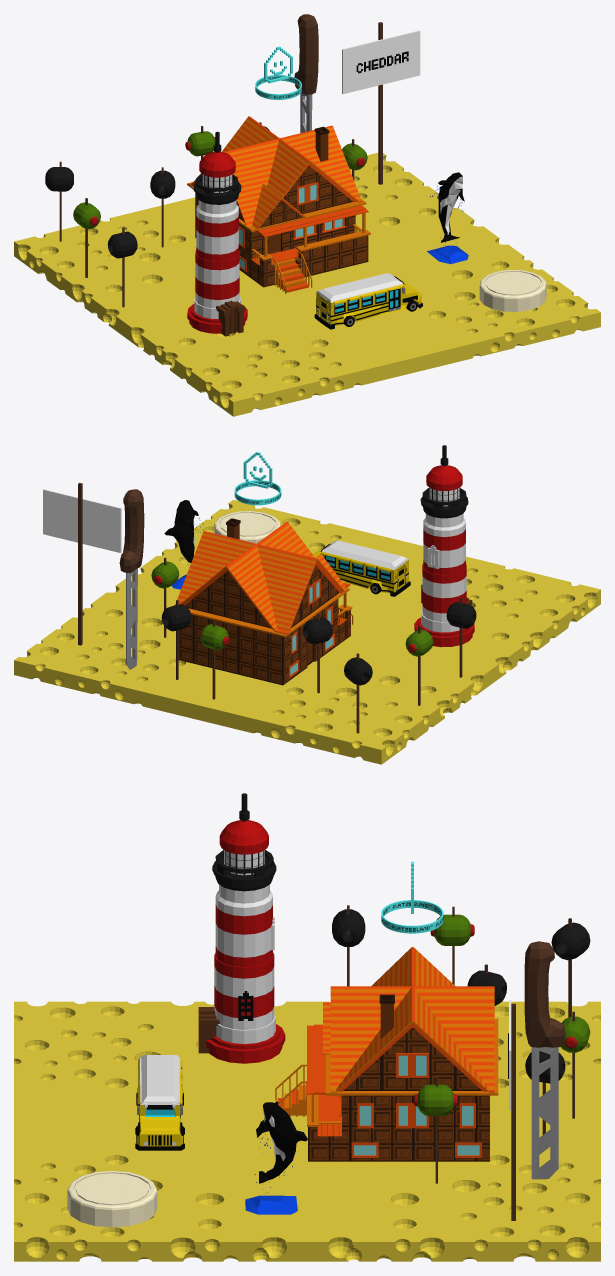
The picture shows the model from 3 angles, top to bottom: view 1: azimuth 30°, elevation 25°; view 2: azimuth 150°, elevation 25°; view 3: azimuth 270°, elevation 25°; orthographic projection. The views are drawn at different scales.
Parts seen in each view (by area): view 1: Cube.022, Cube, OBJRANDOM_LIGHTHOUSE, Cube.023, VEHICLES_SCHOOL_BUS, Cylinder.016, Cube.024, ANIMAL_ORCA, TYPE_PREMIUM, Sphere.017, Sphere.016, Sphere.020 (+3 smaller); view 2: Cube.022, Cube, OBJRANDOM_LIGHTHOUSE, Cube.023, VEHICLES_SCHOOL_BUS, Cube.024, Cylinder.016, ANIMAL_ORCA, TYPE_PREMIUM, Sphere.017, Sphere.016, Sphere.022 (+4 smaller); view 3: Cube.022, Cube, OBJRANDOM_LIGHTHOUSE, Cube.024, VEHICLES_SCHOOL_BUS, Cylinder.016, ANIMAL_ORCA, Sphere.019, Cube.023, Sphere.016, TYPE_PREMIUM, Sphere.018 (+4 smaller).
Part boxes in pixels (bbox=[...]): Cube.022: bbox=[14, 152, 600, 416]; Cube: bbox=[187, 116, 370, 293]; OBJRANDOM_LIGHTHOUSE: bbox=[187, 131, 247, 336]; Cube.023: bbox=[342, 22, 420, 184]; VEHICLES_SCHOOL_BUS: bbox=[314, 273, 422, 329]; Cylinder.016: bbox=[479, 270, 546, 311]; Cube.024: bbox=[294, 14, 318, 133]; ANIMAL_ORCA: bbox=[427, 172, 468, 264]; TYPE_PREMIUM: bbox=[255, 46, 301, 99]; Sphere.017: bbox=[107, 227, 137, 307]; Sphere.016: bbox=[45, 161, 73, 241]; Sphere.020: bbox=[150, 167, 175, 247]; Cube.022: bbox=[14, 500, 600, 764]; Cube: bbox=[174, 518, 353, 685]; OBJRANDOM_LIGHTHOUSE: bbox=[414, 445, 474, 647]; Cube.023: bbox=[43, 482, 121, 645]; VEHICLES_SCHOOL_BUS: bbox=[313, 540, 410, 596]; Cube.024: bbox=[119, 489, 144, 669]; Cylinder.016: bbox=[214, 511, 280, 543]; ANIMAL_ORCA: bbox=[164, 500, 203, 589]; TYPE_PREMIUM: bbox=[234, 452, 281, 505]; Sphere.017: bbox=[446, 597, 476, 677]; Sphere.016: bbox=[344, 653, 372, 733]; Sphere.022: bbox=[199, 619, 229, 699]; Cube.022: bbox=[14, 1001, 600, 1261]; Cube: bbox=[275, 947, 498, 1161]; OBJRANDOM_LIGHTHOUSE: bbox=[198, 793, 285, 1063]; Cube.024: bbox=[524, 941, 565, 1179]; VEHICLES_SCHOOL_BUS: bbox=[135, 1055, 184, 1150]; Cylinder.016: bbox=[67, 1170, 157, 1227]; ANIMAL_ORCA: bbox=[245, 1101, 307, 1214]; Sphere.019: bbox=[413, 1076, 457, 1183]; Cube.023: bbox=[508, 1000, 515, 1220]; Sphere.016: bbox=[551, 918, 590, 1017]; TYPE_PREMIUM: bbox=[381, 861, 443, 933]; Sphere.018: bbox=[430, 906, 474, 984].
Bounding box in the file's own units: 3917 × 2224 × 4000.
45 materials, 5 textured.
